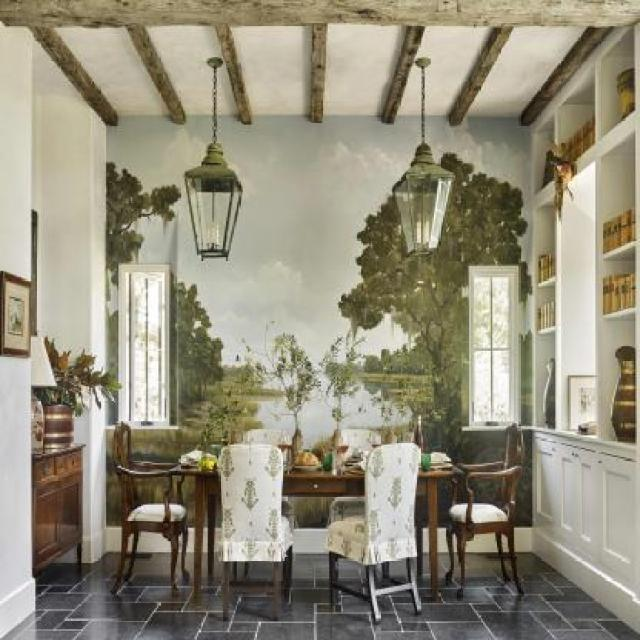floor: (3, 531, 640, 639), (377, 564, 407, 584), (246, 563, 271, 583), (340, 564, 361, 587)
